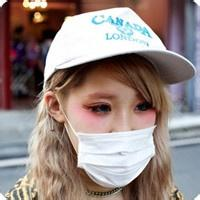face_mask: (67, 62, 161, 178)
